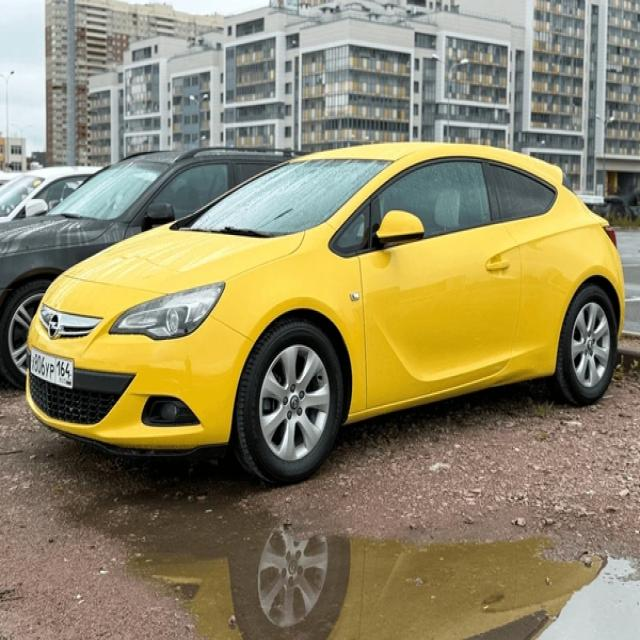opel: (41, 312, 64, 340)
